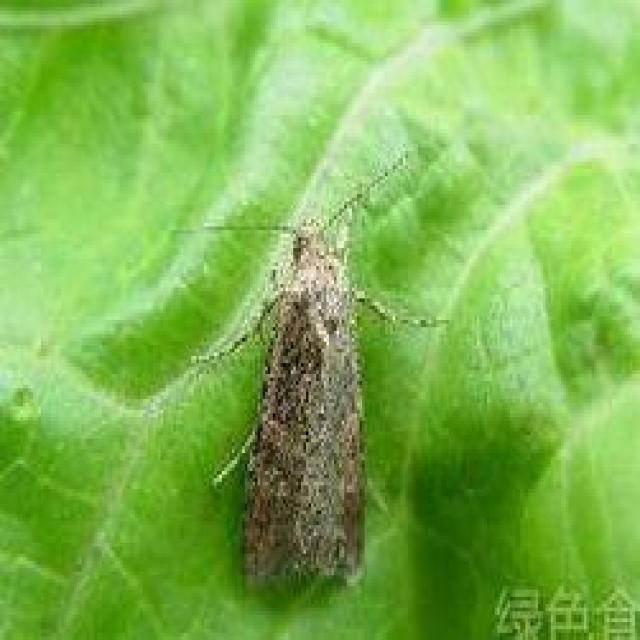BeetArmyWorm-Adult-: (145, 138, 449, 605)
